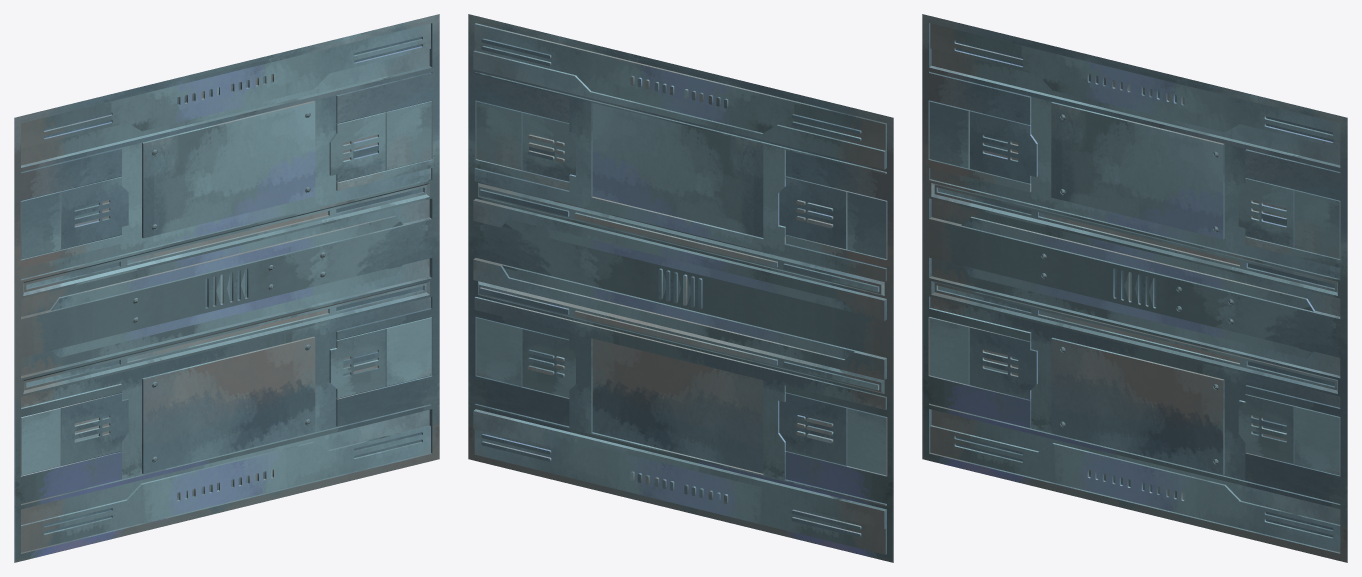
File: LO_wall1.glb
The picture shows the model from 3 angles, left to right: view 1: azimuth 30°, elevation 25°; view 2: azimuth 150°, elevation 25°; view 3: azimuth 330°, elevation 25°; orthographic projection.
Parts seen in each view (by area): view 1: Plane018; view 2: Plane018; view 3: Plane018.
Part boxes in pixels (left/top/right/bottom): Plane018: left=14, top=14, right=439, bottom=562; Plane018: left=468, top=14, right=893, bottom=562; Plane018: left=922, top=14, right=1347, bottom=562.
Size of the model in its own units: 4 by 4 by 0.053.
1 material, 1 textured.
